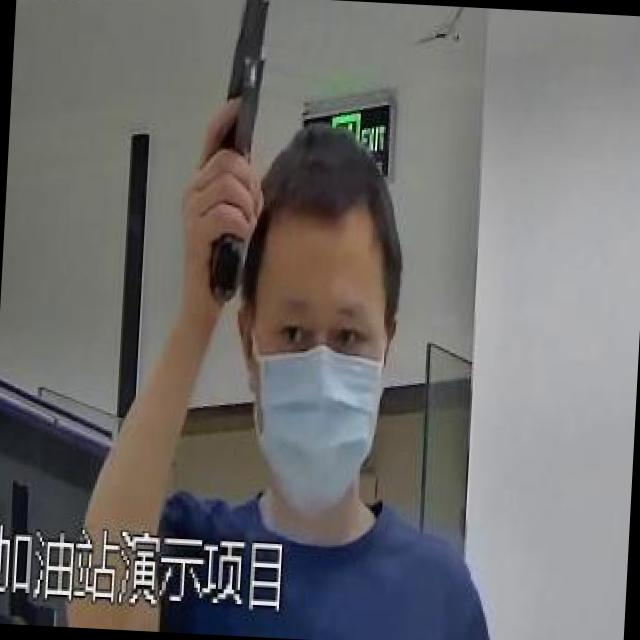Guns: (192, 0, 285, 319)
